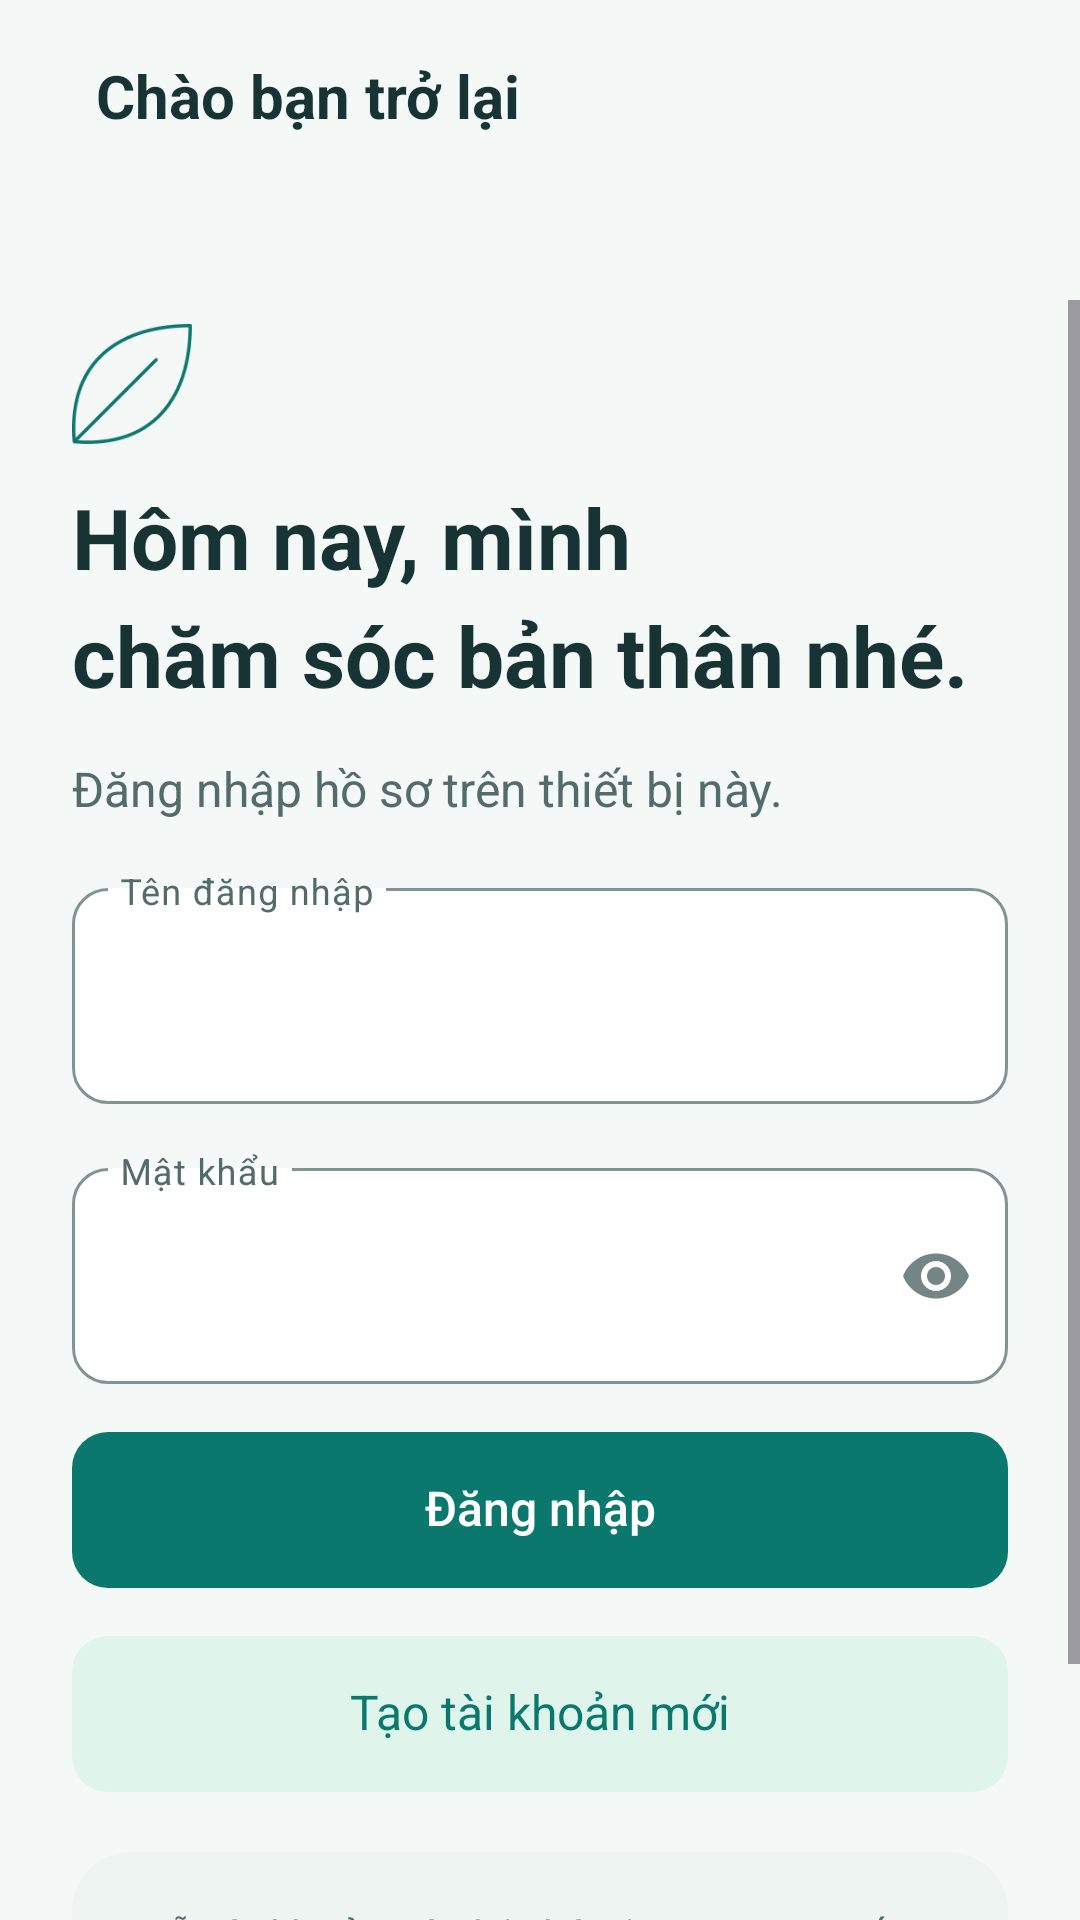

Point at icon controls on the screen. Image size 1080 x 1920, points as (x,y).
Biểu tượng ứng dụng quản lý sức khỏe Vita: (132,384)
